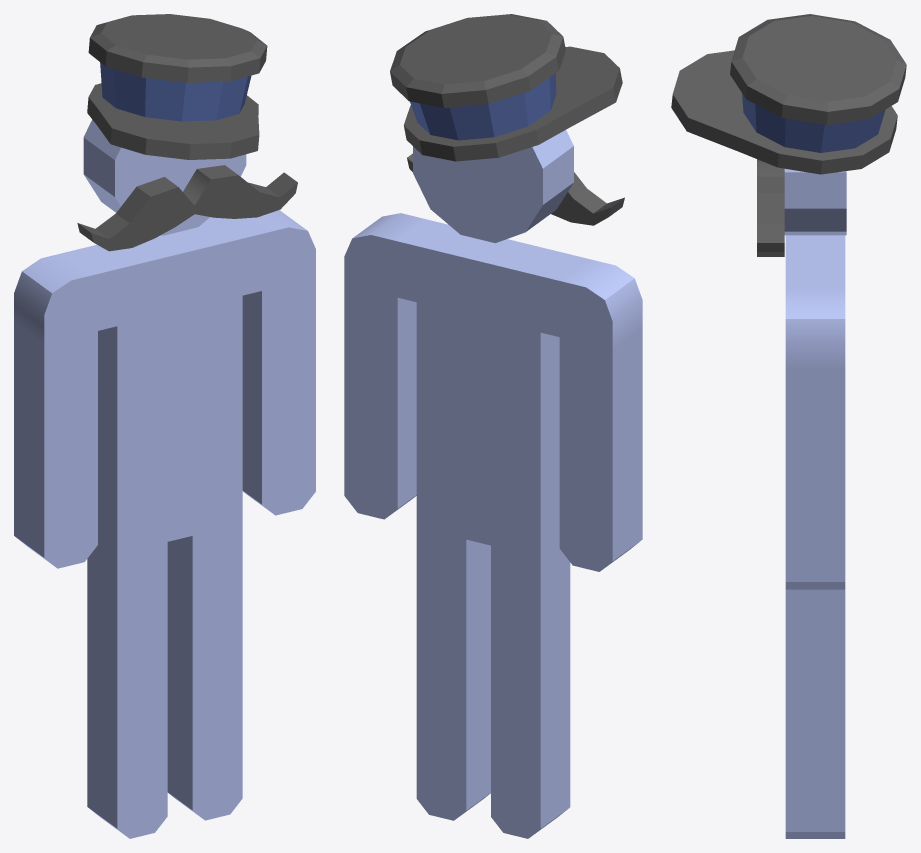
The model's file is inspector.fbx.
The picture shows the model from 3 angles, left to right: view 1: azimuth 30°, elevation 25°; view 2: azimuth 150°, elevation 25°; view 3: azimuth 270°, elevation 25°; orthographic projection.
Parts seen in each view (by area): view 1: inspector, hat, moustache; view 2: inspector, hat, moustache; view 3: inspector, hat, moustache.
Boxes of the visible parts, bbox=[...] form: inspector: bbox=[14, 119, 315, 838]; hat: bbox=[87, 14, 267, 159]; moustache: bbox=[77, 165, 297, 251]; inspector: bbox=[344, 130, 642, 838]; hat: bbox=[390, 14, 622, 161]; moustache: bbox=[407, 153, 624, 225]; inspector: bbox=[784, 168, 846, 838]; hat: bbox=[671, 14, 906, 174]; moustache: bbox=[757, 159, 784, 256].
Bounding box in the file's own units: 3.99 × 11.03 × 3.03.
